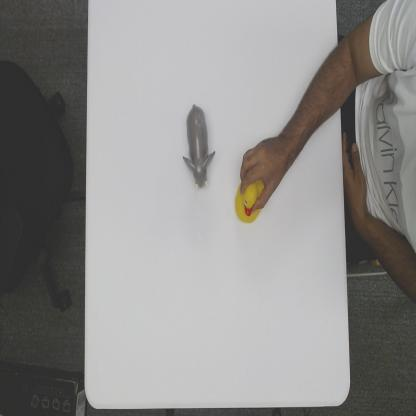Arm: (281, 47, 343, 177)
Duck: (234, 180, 266, 226)
Elephant: (181, 102, 216, 190)
Hand: (240, 134, 282, 214)
